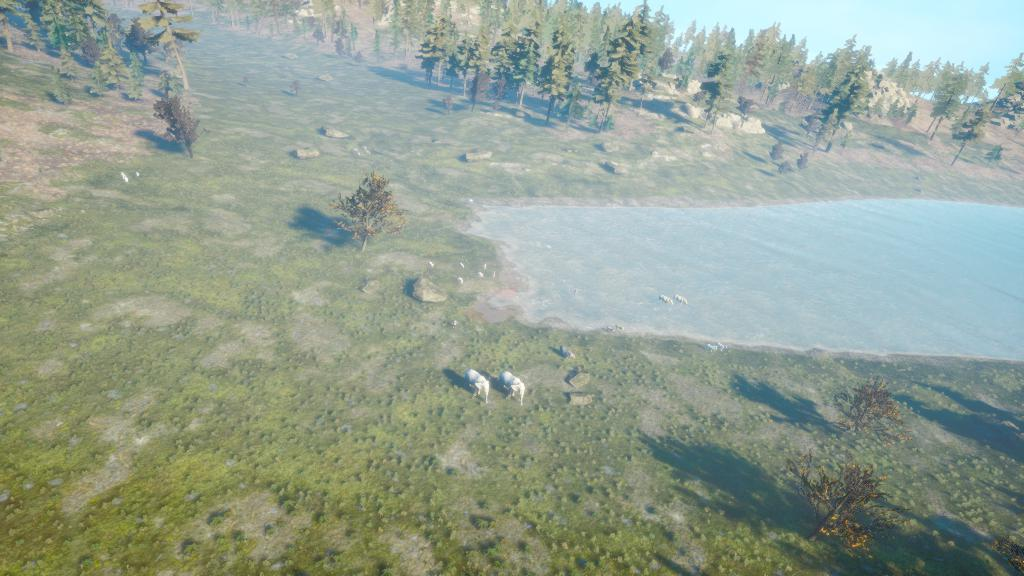elephant: (497, 365, 533, 411), (459, 366, 495, 408)
hippopotamus: (556, 344, 579, 362)
human: (449, 318, 460, 330), (480, 262, 488, 273), (490, 270, 497, 278)
rhinoceros: (657, 293, 675, 309), (674, 293, 691, 307)
zebra: (703, 343, 719, 357), (714, 343, 730, 353)
